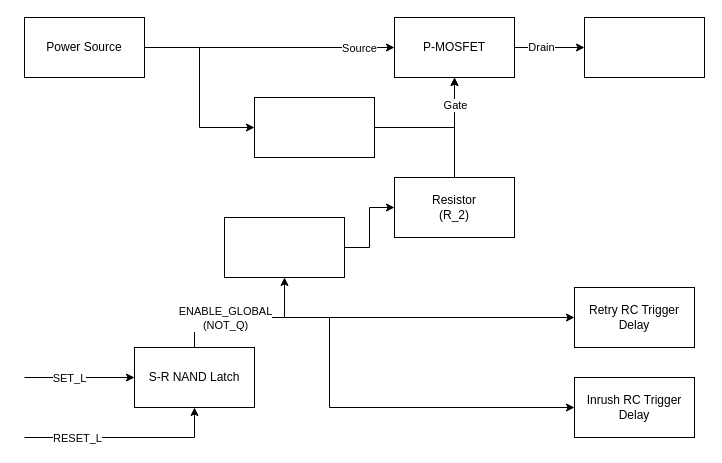
The diagram is 722 pixels wide and 463 high, and some of its shapes have lost their labels. Each missing label, with the centre of its shape:
Buck Converter: the point at 644,47
INVERT Gate (GATE_DRIVE): the point at 284,247
Resistor (R_1): the point at 314,127
